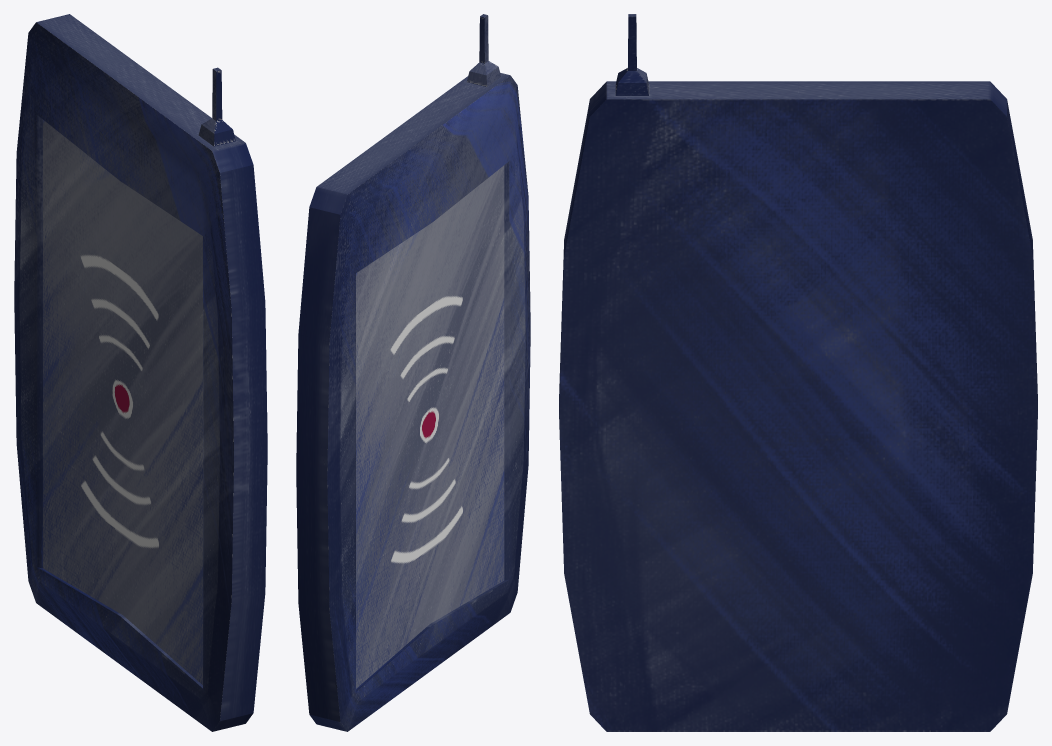
Rendered from NFC ctecka.fbx.
3 views of the same model, side by side, from view 1: azimuth 30°, elevation 25°; view 2: azimuth 150°, elevation 25°; view 3: azimuth 270°, elevation 25° (orthographic). The views are drawn at different scales.
Visible parts, largest first — view 1: NFC_ctecka; view 2: NFC_ctecka; view 3: NFC_ctecka.
Boxes of the visible parts, x1=… form: NFC_ctecka: x1=14, y1=14, x2=267, y2=731; NFC_ctecka: x1=296, y1=14, x2=530, y2=731; NFC_ctecka: x1=559, y1=14, x2=1037, y2=731.
Bounding box in the file's own units: 5.67 × 92.65 × 56.82.
